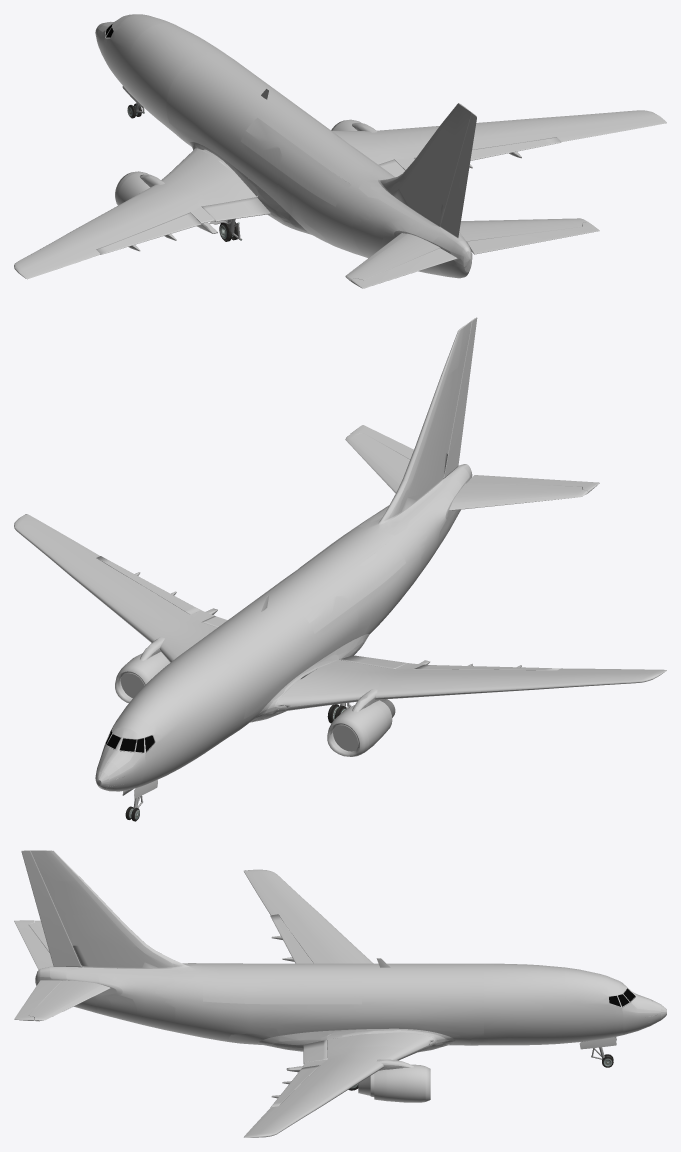
The model's file is Commercial_ready.fbx.
3 views of the same model, one above another, from view 1: azimuth 30°, elevation 25°; view 2: azimuth 150°, elevation 25°; view 3: azimuth 270°, elevation 25° (orthographic). The views are drawn at different scales.
Parts seen in each view (by area): view 1: Main_Body, Rudder, Elevator_Right, Elevator_Left, Aileron_Left, Flap_left, Aileron_Right; view 2: Main_Body, Rudder, Elevator_Left, Aileron_Right; view 3: Main_Body, Rudder, Elevator_Left, Elevator_Right, Aileron_Left, Aileron_Right, FlapRight.
Boxes of the visible parts, x1=… form: Main_Body: x1=14, y1=14, x2=666, y2=280; Rudder: x1=440, y1=112, x2=476, y2=237; Elevator_Right: x1=467, y1=221, x2=599, y2=254; Elevator_Left: x1=350, y1=248, x2=457, y2=288; Aileron_Left: x1=96, y1=212, x2=201, y2=254; Flap_left: x1=202, y1=197, x2=270, y2=221; Aileron_Right: x1=414, y1=137, x2=561, y2=160; Main_Body: x1=14, y1=321, x2=666, y2=798; Rudder: x1=443, y1=317, x2=477, y2=478; Elevator_Left: x1=467, y1=475, x2=599, y2=492; Aileron_Right: x1=96, y1=556, x2=200, y2=614; Main_Body: x1=28, y1=850, x2=666, y2=1137; Rudder: x1=21, y1=850, x2=81, y2=967; Elevator_Left: x1=14, y1=920, x2=53, y2=969; Elevator_Right: x1=14, y1=980, x2=61, y2=1020; Aileron_Left: x1=270, y1=914, x2=313, y2=963; Aileron_Right: x1=270, y1=1065, x2=319, y2=1107; FlapRight: x1=303, y1=1040, x2=327, y2=1063.
Size of the model in its own units: 1973 by 742 by 2038.
